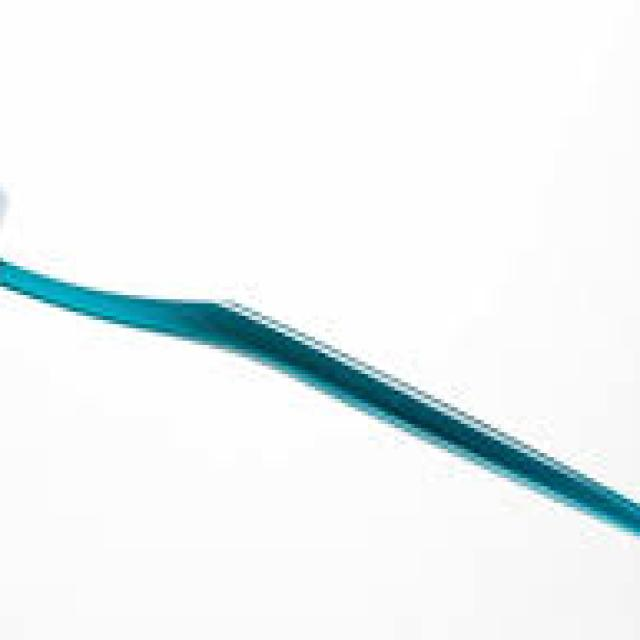organic: (11, 168, 633, 571)
